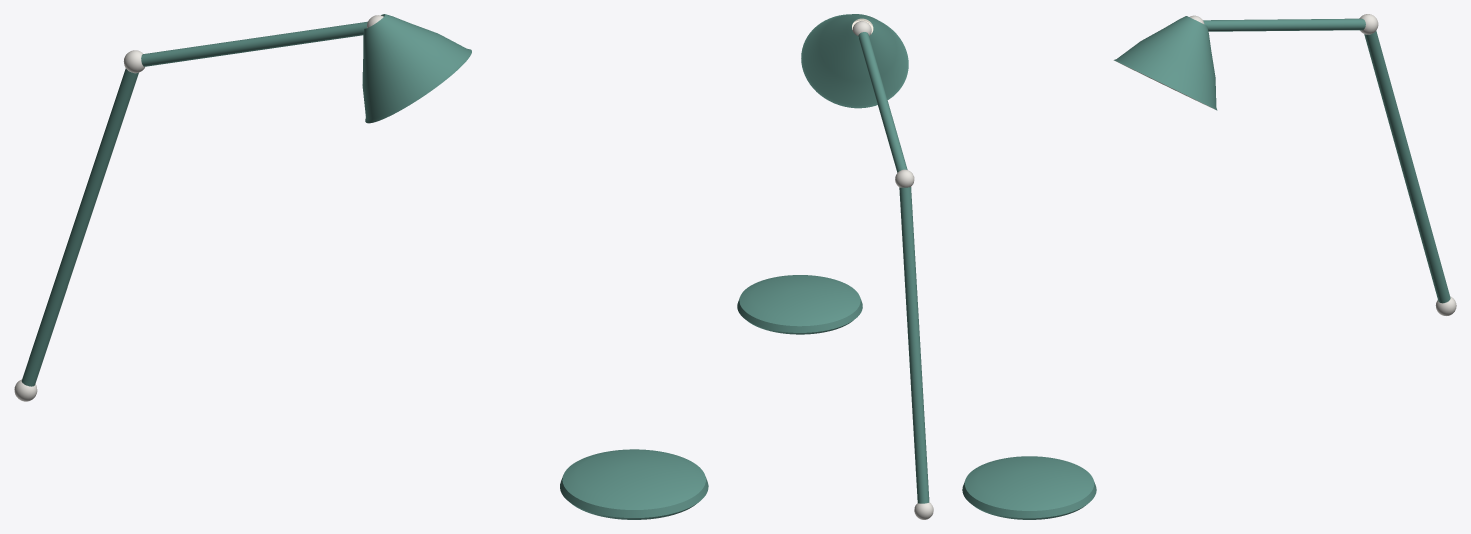
Rendered from lamp.glb.
3 renders of one model, left to right at view 1: azimuth 30°, elevation 25°; view 2: azimuth 150°, elevation 25°; view 3: azimuth 270°, elevation 25°, orthographic. The views are drawn at different scales.
Visible parts, largest first — view 1: Lamp; view 2: Lamp; view 3: Lamp.
Boxes of the visible parts, box(x1,y1,x2,y2) form: Lamp: box(14, 14, 708, 519); Lamp: box(737, 14, 933, 519); Lamp: box(962, 14, 1456, 519).
Size of the model in its own units: 4.07 by 3.86 by 4.27.
